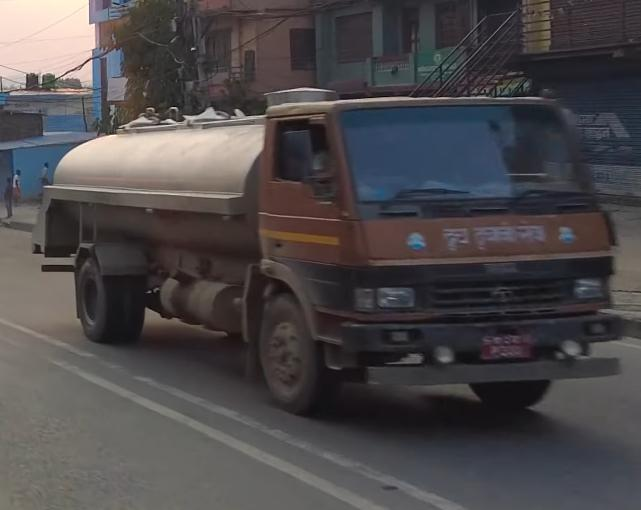mini_truck: (33, 75, 627, 436)
